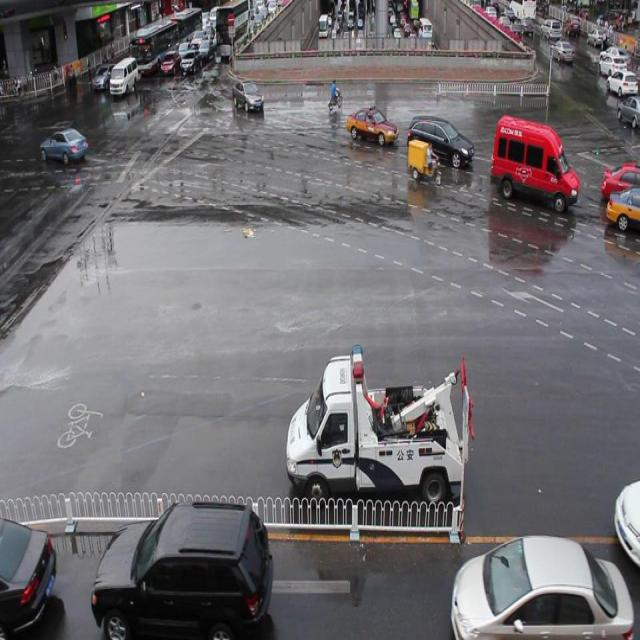bus: (287, 344, 475, 513)
car: (93, 500, 270, 640), (451, 539, 640, 640), (1, 512, 55, 640), (408, 116, 474, 170), (612, 478, 640, 570), (347, 105, 398, 145), (602, 159, 640, 202), (606, 186, 640, 231), (232, 78, 264, 114)
truck: (490, 113, 580, 213)
